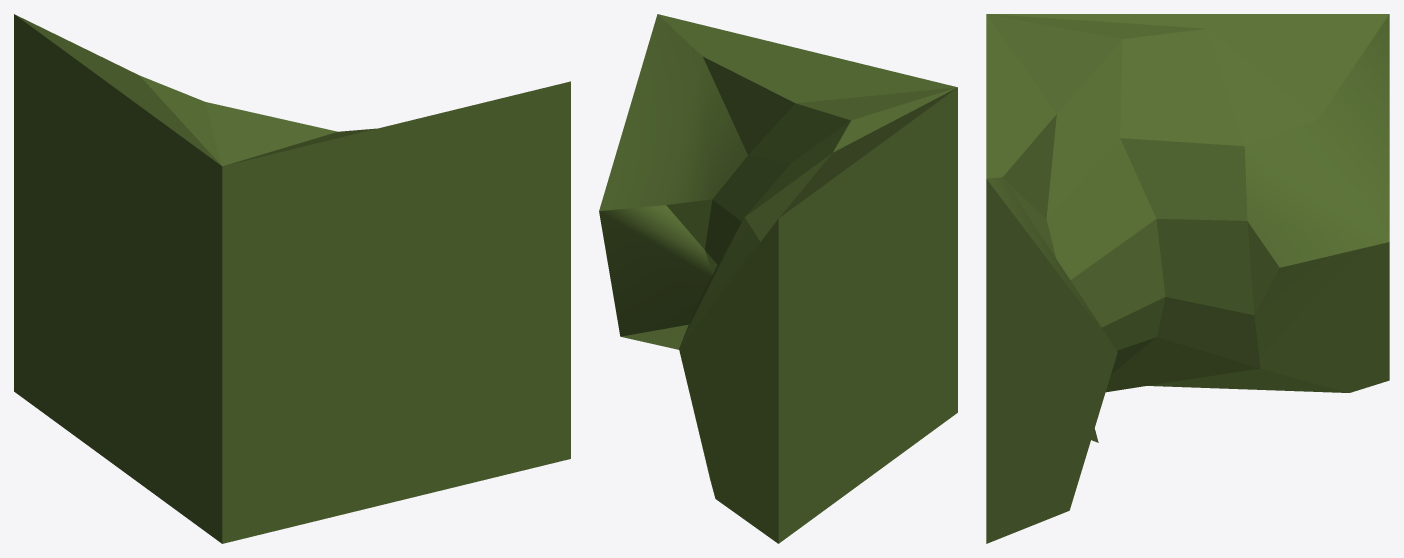
Rendered from LightVegetationEdgeSmallInternalCurve1.fbx.
3 renders of one model, left to right at view 1: azimuth 30°, elevation 25°; view 2: azimuth 150°, elevation 25°; view 3: azimuth 270°, elevation 25°, orthographic. The views are drawn at different scales.
Visible parts, largest first — view 1: LightVegetationEdgeEdgeSmallInternalCurve1; view 2: LightVegetationEdgeEdgeSmallInternalCurve1; view 3: LightVegetationEdgeEdgeSmallInternalCurve1.
Boxes of the visible parts, bbox=[...] form: LightVegetationEdgeEdgeSmallInternalCurve1: bbox=[14, 14, 570, 543]; LightVegetationEdgeEdgeSmallInternalCurve1: bbox=[599, 14, 957, 543]; LightVegetationEdgeEdgeSmallInternalCurve1: bbox=[986, 14, 1389, 543].
Size of the model in its own units: 193 by 200 by 200.
